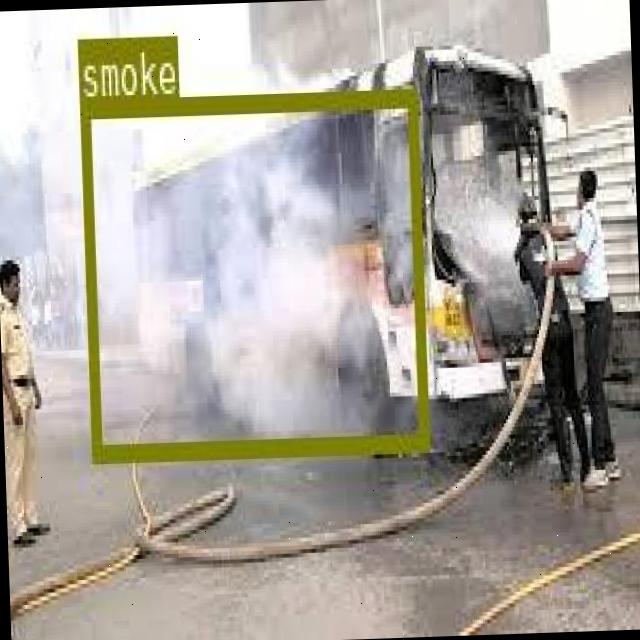smoke: (80, 86, 426, 457)
